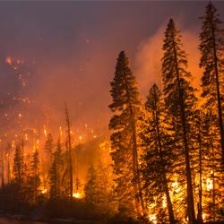fire: (58, 168, 224, 223)
